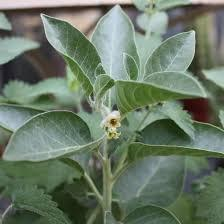healthy_leaf: (20, 7, 224, 224)
